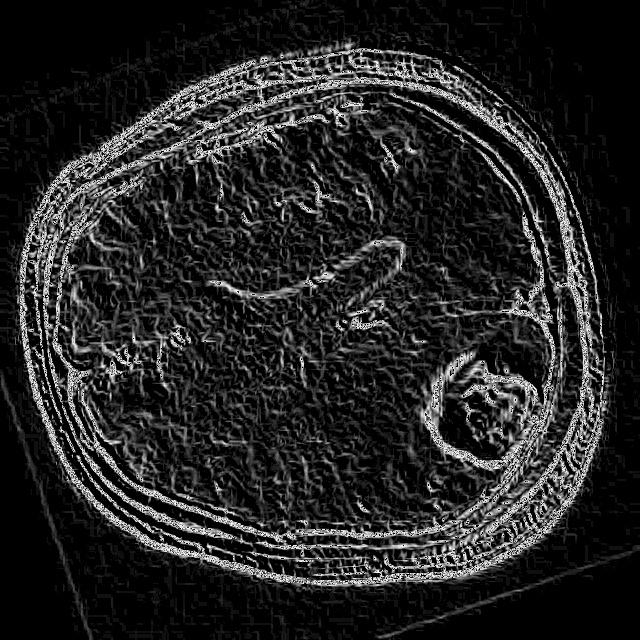Brain-Tumor: (410, 313, 568, 476)
